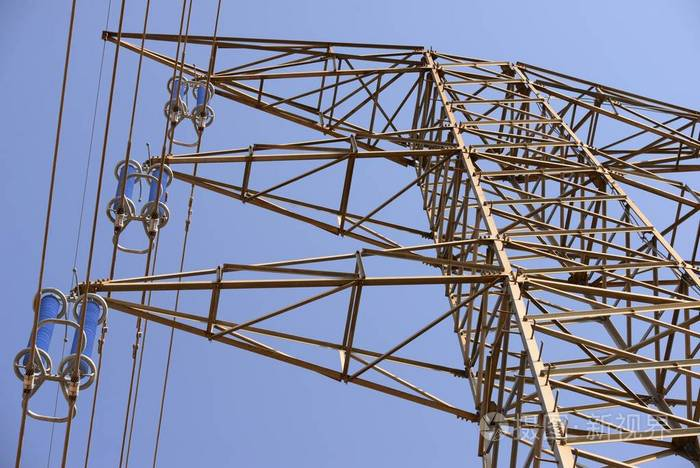insulator: (66, 300, 103, 373), (23, 297, 61, 365), (146, 168, 170, 216), (114, 163, 138, 206), (192, 84, 211, 117), (169, 78, 187, 109)
